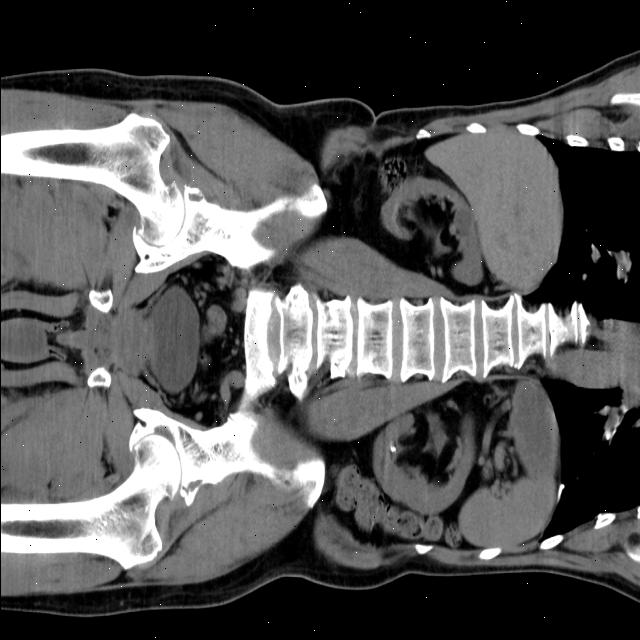kidneystone: (389, 443, 396, 454)
